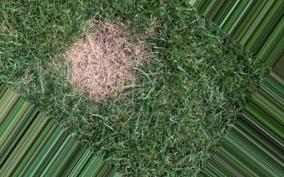patch: (77, 38, 122, 89)
